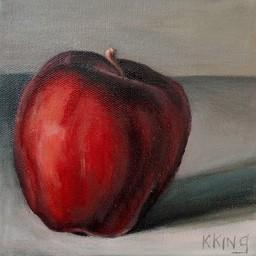apple: (11, 53, 191, 237)
